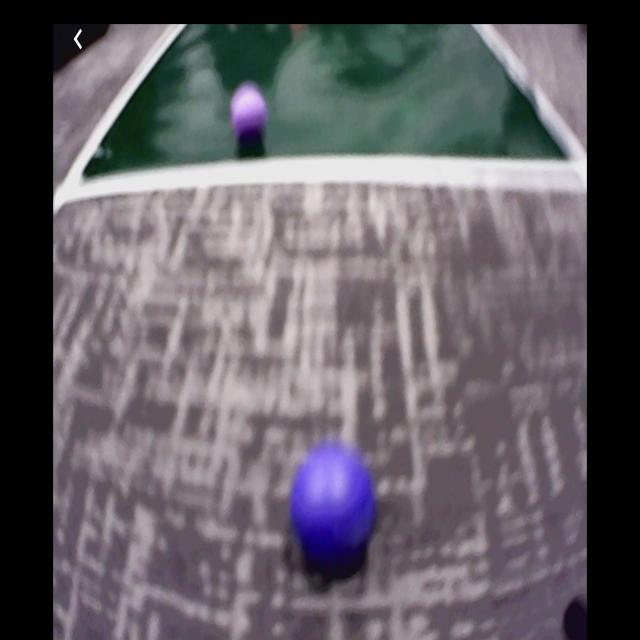ball: (290, 439, 376, 566), (231, 84, 267, 144)
